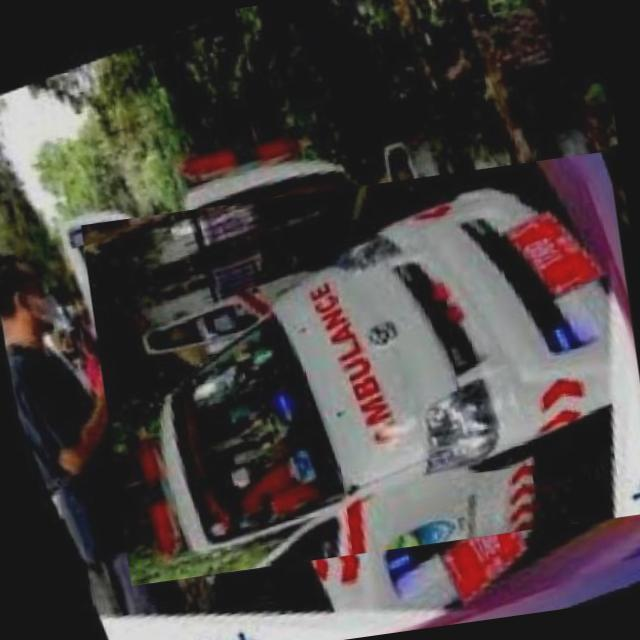emergency-vehicle: (116, 116, 624, 622)
